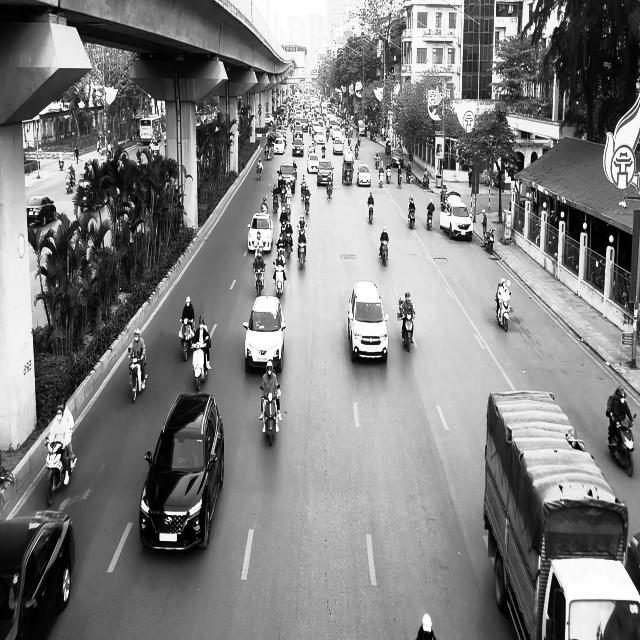car: (139, 391, 225, 552), (0, 509, 76, 639), (348, 280, 389, 363), (244, 295, 286, 372), (247, 212, 274, 253), (27, 195, 56, 226), (357, 164, 371, 186)
motorbike: (45, 436, 77, 506), (607, 412, 637, 476), (260, 384, 281, 446), (191, 336, 212, 391), (128, 349, 148, 403), (179, 318, 195, 361), (495, 292, 512, 332), (401, 312, 415, 352), (273, 261, 287, 297), (253, 261, 266, 296), (297, 226, 307, 269), (379, 240, 389, 266), (485, 228, 495, 254), (408, 206, 416, 229), (326, 176, 334, 198), (426, 210, 434, 230), (368, 200, 374, 223), (398, 172, 402, 188)
truck: (483, 389, 640, 639)
